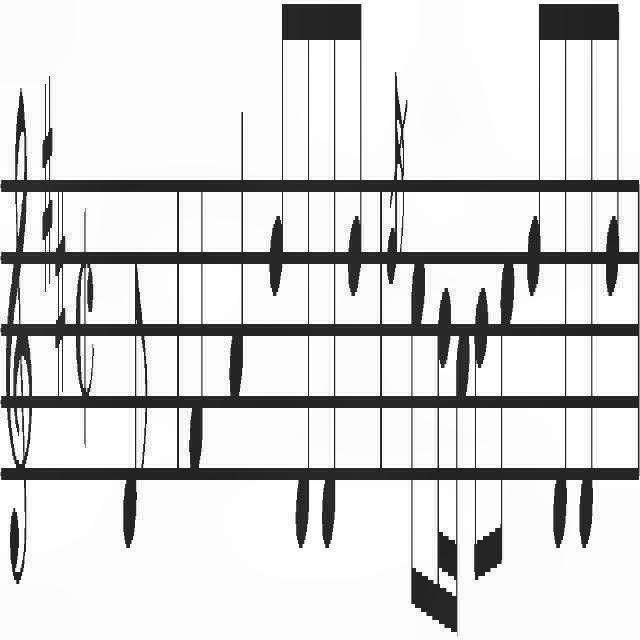Bass-clef: (5, 84, 33, 592)
Diez: (41, 78, 53, 294), (54, 184, 66, 398)
Eighth-note: (320, 0, 340, 562), (552, 0, 572, 560), (578, 0, 598, 560), (295, 0, 313, 560), (122, 258, 150, 560), (492, 249, 516, 583), (524, 2, 546, 318), (409, 252, 427, 620), (267, 0, 288, 308), (603, 0, 621, 308), (472, 287, 490, 589), (345, 0, 362, 312)
Quarter-note: (188, 171, 208, 493), (228, 102, 246, 416)
Sixteenth-note: (454, 324, 471, 640), (436, 272, 450, 640)
